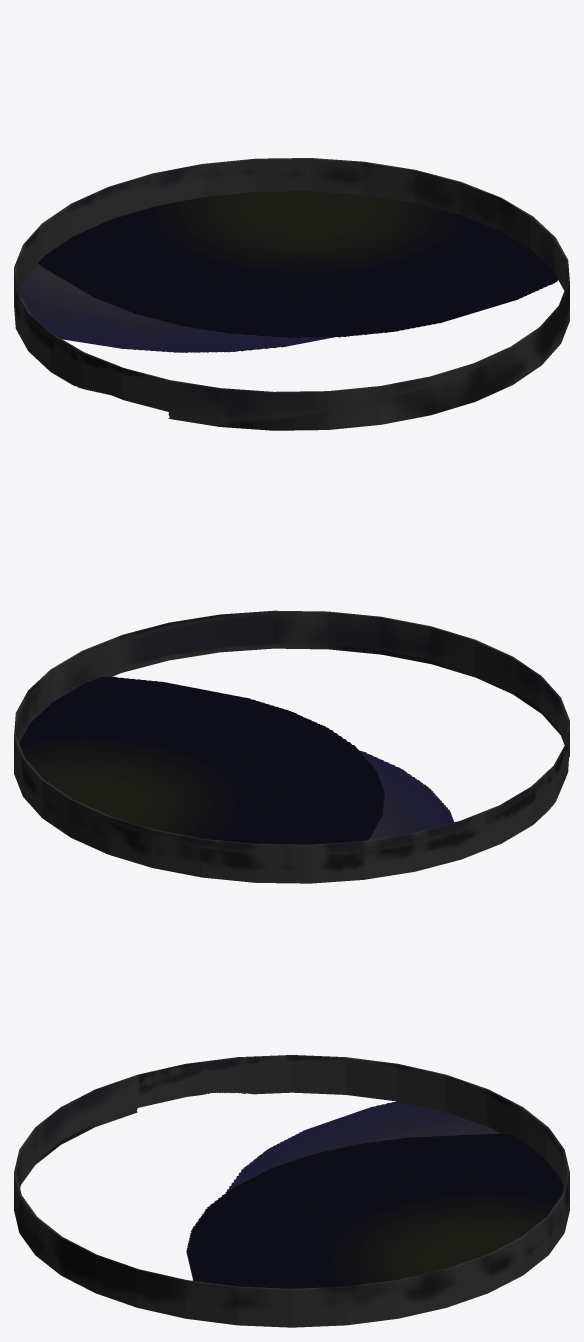
Rendered from org_portal.obj.
The picture shows the model from 3 angles, top to bottom: view 1: azimuth 30°, elevation 25°; view 2: azimuth 150°, elevation 25°; view 3: azimuth 270°, elevation 25°; orthographic projection.
Visible parts, largest first — view 1: Circle; view 2: Circle; view 3: Circle.
Boxes of the visible parts, box(x1,y1,x2,y2) form: Circle: box(14, 158, 569, 430); Circle: box(14, 610, 569, 883); Circle: box(14, 1055, 569, 1327).
Bounding box in the file's own units: 0.9996 × 0.5349 × 0.9996.
